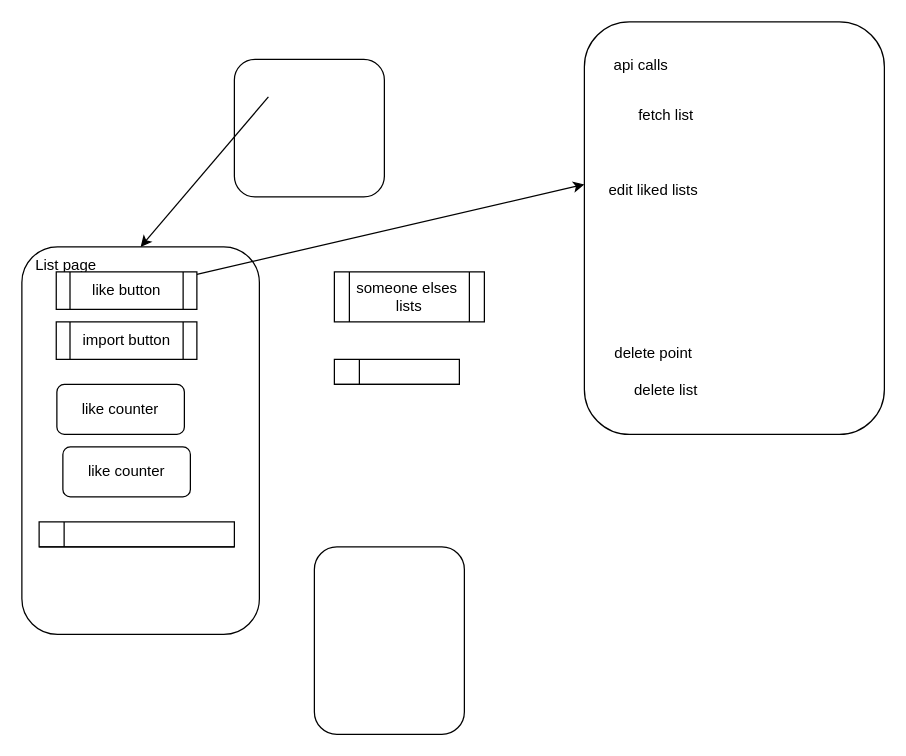
This 906x756 diagram has some shape labels left out. The centre of each missing label's shape, as x and y in pixels:
delete each point list: the point at 136,534
own list: the point at 396,371
Search: the point at 308,127
